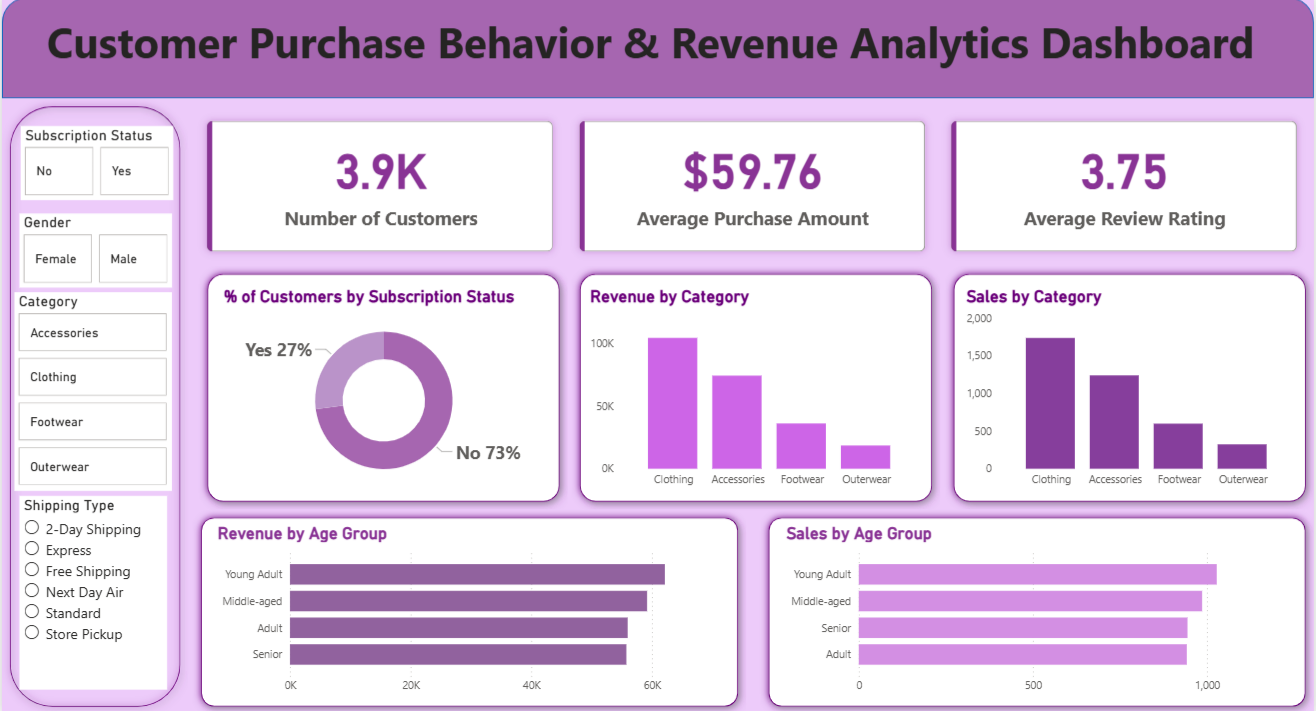

Layout of this report page (visuals, bound fields, positions):
{"tool":"powerbi","page":{"name":"Customer behavior dashboard","canvas":[1500,820],"ordinal":0},"visuals":[{"type":"cardVisual","fields":{"Data":["public customer.Number of Customers","public customer.Average Purchase Amount","public customer.Average Review Rating"]},"box":[218.6,125.7,1278.6,181.4],"z":0},{"type":"shape","box":[0,0,1499.4,115.3],"z":1000},{"type":"textbox","box":[0,12.9,1482.9,102.9],"z":2000},{"type":"shape","box":[218.3,585.6,631.7,234.2],"z":2500,"group":"g1"},{"type":"shape","box":[225.4,307,420.5,278.6],"z":3000},{"type":"donutChart","title":"% of Customers by Subscription Status","fields":{"Category":["public customer.subscription_status"],"Y":["CountNonNull(public customer.customer_id)"]},"box":[248.4,331.8,376.2,237.8],"z":4000},{"type":"shape","box":[1078.9,307,420.5,278.6],"z":5000},{"type":"shape","box":[652.1,307,420.5,278.6],"z":6000},{"type":"clusteredColumnChart","title":"Revenue by Category","fields":{"Y":["Sum(public customer.purchase_amount)"],"Category":["public customer.category"]},"box":[667.2,331.8,385.1,237.8],"z":7000},{"type":"clusteredColumnChart","title":"Sales by Category","fields":{"Y":["CountNonNull(public customer.customer_id)"],"Category":["public customer.category"]},"box":[1096.6,331.8,385.1,237.8],"z":8000},{"type":"shape","box":[0,115.3,212.9,704.5],"z":9000},{"type":"advancedSlicerVisual","fields":{"Values":["public customer.subscription_status"]},"box":[20.9,147.6,174.1,85],"z":10000},{"type":"advancedSlicerVisual","fields":{"Values":["public customer.gender"]},"box":[19.5,246.5,174.1,85],"z":11000},{"type":"advancedSlicerVisual","fields":{"Values":["public customer.category"]},"box":[13.9,337,179.7,227],"z":12000},{"type":"listSlicer","fields":{"Values":["public customer.shipping_type"]},"box":[19.5,569.6,168.5,221.4],"z":13000},{"type":"shape","box":[867.7,585.6,631.7,234.2],"z":14000},{"type":"clusteredBarChart","title":"Sales by Age Group","fields":{"Y":["CountNonNull(public customer.customer_id)"],"Category":["public customer.age_group"]},"box":[890.8,601.5,585.6,204.1],"z":15000},{"type":"group","id":"g1","title":"Group 1","box":[218.3,585.6,631.7,234.2],"z":16000},{"type":"clusteredBarChart","title":"Revenue by Age Group","fields":{"Y":["Sum(public customer.purchase_amount)"],"Category":["public customer.age_group"]},"box":[241.4,601.6,585.6,204.1],"z":17500,"group":"g1"}]}

Visuals, with their boxes in screenshot pixels (x1, y1, x2, y2), scaled from the page's 1500x820 canvas onto the 1316x711 screenshot:
cardVisual - public customer.Number of Customers x public customer.Average Purchase Amount: (x1=192, y1=109, x2=1314, y2=266)
shape: (x1=0, y1=0, x2=1315, y2=100)
textbox: (x1=0, y1=11, x2=1301, y2=100)
shape: (x1=192, y1=508, x2=746, y2=710)
shape: (x1=198, y1=266, x2=567, y2=508)
"% of Customers by Subscription Status" donutChart: (x1=218, y1=288, x2=548, y2=494)
shape: (x1=947, y1=266, x2=1315, y2=508)
shape: (x1=572, y1=266, x2=941, y2=508)
"Revenue by Category" clusteredColumnChart: (x1=585, y1=288, x2=923, y2=494)
"Sales by Category" clusteredColumnChart: (x1=962, y1=288, x2=1300, y2=494)
shape: (x1=0, y1=100, x2=187, y2=710)
advancedSlicerVisual - public customer.subscription_status: (x1=18, y1=128, x2=171, y2=202)
advancedSlicerVisual - public customer.gender: (x1=17, y1=214, x2=170, y2=287)
advancedSlicerVisual - public customer.category: (x1=12, y1=292, x2=170, y2=489)
listSlicer - public customer.shipping_type: (x1=17, y1=494, x2=165, y2=686)
shape: (x1=761, y1=508, x2=1315, y2=710)
"Sales by Age Group" clusteredBarChart: (x1=782, y1=522, x2=1295, y2=699)
"Group 1" group: (x1=192, y1=508, x2=746, y2=710)
"Revenue by Age Group" clusteredBarChart: (x1=212, y1=522, x2=726, y2=699)
